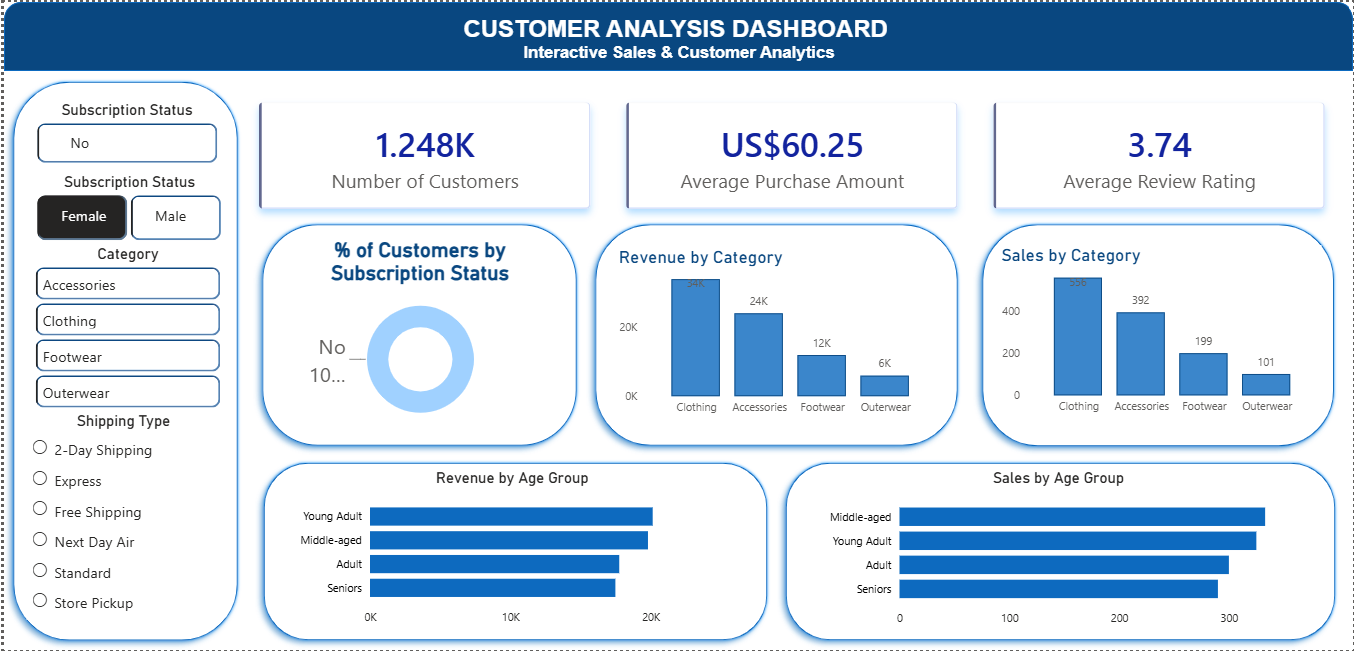

The page's visual inventory and layout, read from the dashboard file:
{"tool":"powerbi","page":{"name":"Page 1","canvas":[1500,720],"ordinal":0},"visuals":[{"type":"cardVisual","fields":{"Data":["customer_behavior customer.Number of Customers","customer_behavior customer.Average Purchase Amount","customer_behavior customer.Average Review Rating"]},"box":[250,78,1250,184],"z":0},{"type":"shape","box":[646.7,236.7,423.3,266.7],"z":1000},{"type":"shape","box":[276.7,236.7,370,266.7],"z":2000},{"type":"shape","box":[0,0,1500,76.7],"z":3000},{"type":"textbox","box":[0,10,1500,67.1],"z":4000},{"type":"donutChart","title":"% of Customers by Subscription Status","fields":{"Category":["customer_behavior customer.subscription_status"],"Y":["CountNonNull(customer_behavior customer.customer_id)"]},"box":[318,262,288,218],"z":5000},{"type":"clusteredColumnChart","title":"Revenue by Category","fields":{"Y":["Sum(customer_behavior customer.purchase_amount)"],"Category":["customer_behavior customer.category"]},"box":[678,272,362,196],"z":6000},{"type":"shape","box":[1077,236.1,411.5,267.2],"z":7000},{"type":"clusteredColumnChart","title":"Sales by Category","fields":{"Y":["CountNonNull(customer_behavior customer.customer_id)"],"Category":["customer_behavior customer.category"]},"box":[1103.3,270.5,360.7,196.7],"z":8000},{"type":"shape","box":[0,78.6,270,641.4],"z":9000},{"type":"advancedSlicerVisual","title":"Subscription Status","fields":{"Values":["customer_behavior customer.subscription_status"]},"box":[31.4,110,210,74.3],"z":10000},{"type":"advancedSlicerVisual","title":"Gender","fields":{"Values":["customer_behavior customer.gender"]},"box":[31.4,190,215.7,80],"z":11000},{"type":"advancedSlicerVisual","title":"Category","fields":{"Values":["customer_behavior customer.category"]},"box":[30,270,215.7,185.7],"z":12000},{"type":"listSlicer","title":"Shipping Type","fields":{"Values":["customer_behavior customer.shipping_type"]},"box":[25.7,455.7,215.7,231.4],"z":13000},{"type":"shape","box":[277.8,502.2,580,217.8],"z":14000},{"type":"clusteredBarChart","title":"Revenue by Age Group","fields":{"Y":["Sum(customer_behavior customer.purchase_amount)"],"Category":["customer_behavior customer.age_group"]},"box":[318.6,518.6,492.9,182.9],"z":15000},{"type":"shape","box":[857.8,502.2,631.1,217.8],"z":16000},{"type":"clusteredBarChart","title":"Sales by Age Group","fields":{"Category":["customer_behavior customer.age_group"],"Y":["CountNonNull(customer_behavior customer.customer_id)"]},"box":[907.1,518.6,530,184.3],"z":17000}]}

Visuals, with their boxes in screenshot pixels (x1, y1, x2, y2), scaled from the page's 1500x720 canvas onto the 1354x651 screenshot:
cardVisual - customer_behavior customer.Number of Customers x customer_behavior customer.Average Purchase Amount: (x1=226, y1=71, x2=1353, y2=237)
shape: (x1=584, y1=214, x2=966, y2=455)
shape: (x1=250, y1=214, x2=584, y2=455)
shape: (x1=0, y1=0, x2=1353, y2=69)
textbox: (x1=0, y1=9, x2=1353, y2=70)
"% of Customers by Subscription Status" donutChart: (x1=287, y1=237, x2=547, y2=434)
"Revenue by Category" clusteredColumnChart: (x1=612, y1=246, x2=939, y2=423)
shape: (x1=972, y1=213, x2=1344, y2=455)
"Sales by Category" clusteredColumnChart: (x1=996, y1=245, x2=1322, y2=422)
shape: (x1=0, y1=71, x2=244, y2=650)
"Subscription Status" advancedSlicerVisual: (x1=28, y1=99, x2=218, y2=167)
"Gender" advancedSlicerVisual: (x1=28, y1=172, x2=223, y2=244)
"Category" advancedSlicerVisual: (x1=27, y1=244, x2=222, y2=412)
"Shipping Type" listSlicer: (x1=23, y1=412, x2=218, y2=621)
shape: (x1=251, y1=454, x2=774, y2=650)
"Revenue by Age Group" clusteredBarChart: (x1=288, y1=469, x2=733, y2=634)
shape: (x1=774, y1=454, x2=1344, y2=650)
"Sales by Age Group" clusteredBarChart: (x1=819, y1=469, x2=1297, y2=636)
